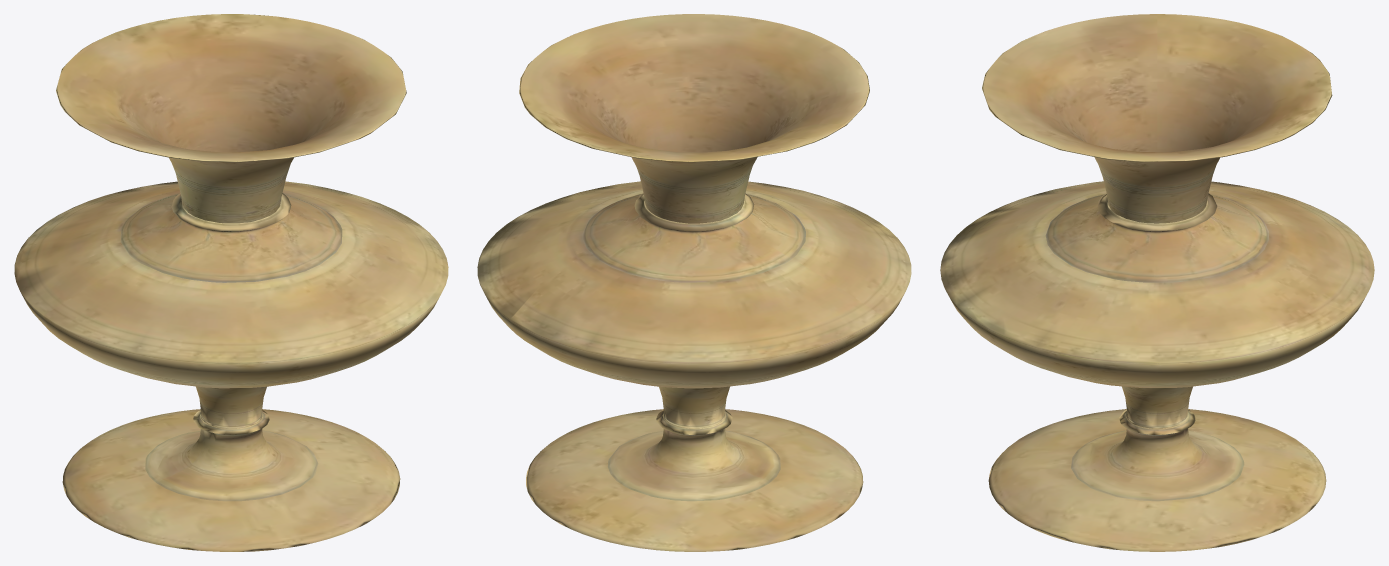
The model's file is ph-brass-vase-01.glb.
3 views of the same model, side by side, from view 1: azimuth 30°, elevation 25°; view 2: azimuth 150°, elevation 25°; view 3: azimuth 270°, elevation 25° (orthographic).
Parts seen in each view (by area): view 1: brass_vase_01; view 2: brass_vase_01; view 3: brass_vase_01.
Boxes of the visible parts, x1,y1,x2,y2 form: brass_vase_01: (14, 14, 448, 551); brass_vase_01: (477, 14, 911, 551); brass_vase_01: (940, 14, 1374, 551).
Size of the model in its own units: 0.9998 by 1 by 0.9998.
Materials: 1 (1 with a texture image).
